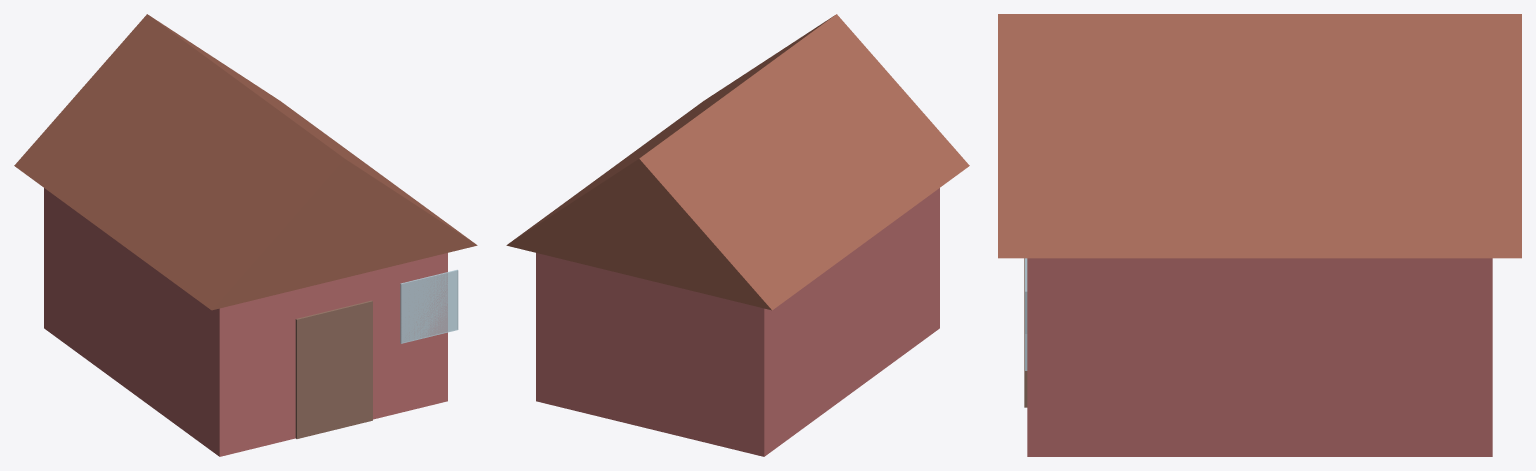
The model's file is barn.glb.
The picture shows the model from 3 angles, left to right: view 1: azimuth 30°, elevation 25°; view 2: azimuth 150°, elevation 25°; view 3: azimuth 270°, elevation 25°; orthographic projection. The views are drawn at different scales.
Visible parts, largest first — view 1: Barn_Roof, Barn_Body, Barn_Door, Barn_Window; view 2: Barn_Roof, Barn_Body; view 3: Barn_Roof, Barn_Body.
Boxes of the visible parts, x1,y1,x2,y2 form: Barn_Roof: [14, 14, 477, 310]; Barn_Body: [44, 188, 447, 456]; Barn_Door: [295, 300, 372, 438]; Barn_Window: [400, 269, 458, 343]; Barn_Roof: [506, 14, 969, 310]; Barn_Body: [536, 188, 939, 456]; Barn_Roof: [998, 14, 1521, 258]; Barn_Body: [1027, 258, 1492, 456].
Size of the model in its own units: 7 by 7 by 9.
